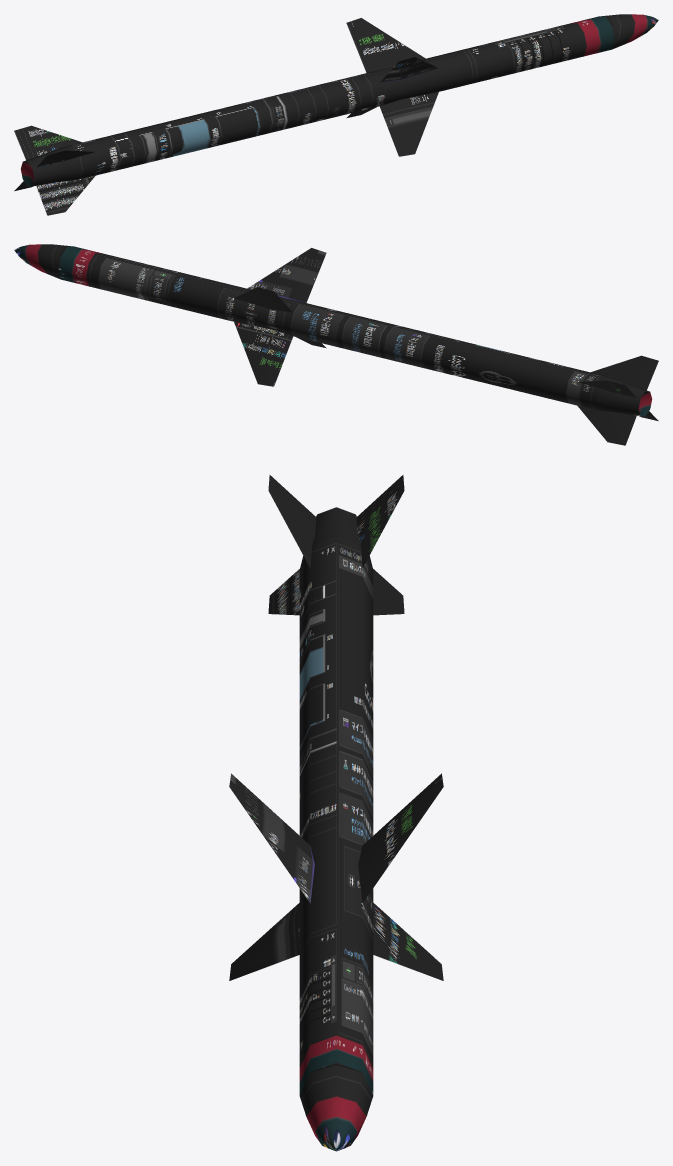
Rendered from Missile.obj.
The picture shows the model from 3 angles, top to bottom: view 1: azimuth 30°, elevation 25°; view 2: azimuth 150°, elevation 25°; view 3: azimuth 270°, elevation 25°; orthographic projection. The views are drawn at different scales.
Parts seen in each view (by area): view 1: Skyguard_Sparrow3; view 2: Skyguard_Sparrow3; view 3: Skyguard_Sparrow3.
Boxes of the visible parts, left/top/right/bottom form: Skyguard_Sparrow3: left=14, top=14, right=658, bottom=215; Skyguard_Sparrow3: left=14, top=244, right=658, bottom=445; Skyguard_Sparrow3: left=229, top=475, right=443, bottom=1151.
Size of the model in its own units: 3.5 by 0.5147 by 0.5147.
